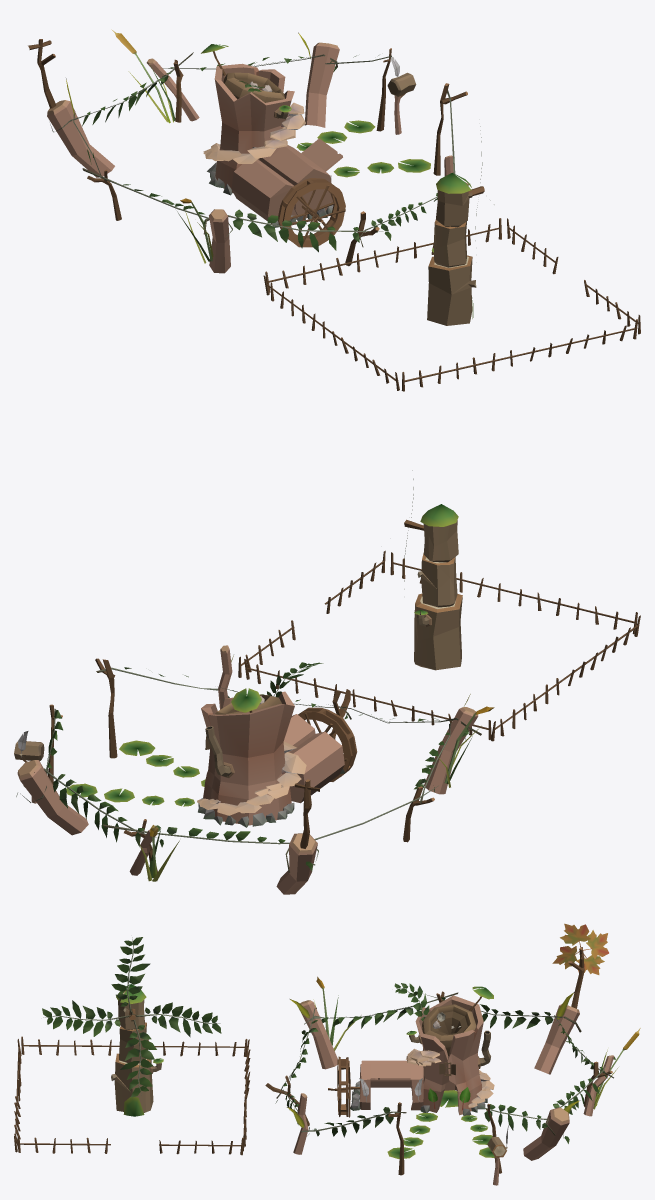
The picture shows the model from 3 angles, top to bottom: view 1: azimuth 30°, elevation 25°; view 2: azimuth 150°, elevation 25°; view 3: azimuth 270°, elevation 25°; orthographic projection. The views are drawn at different scales.
Parts seen in each view (by area): view 1: nestStage_14, watermillHouse.001, garageDoor.004; view 2: nestStage_14, watermillHouse.001; view 3: nestStage_14, windmill.001, nestStageWindmill_11.005, watermillHouse.001.
Part boxes in pixels (box(x1,y1,x2,y2)): nestStage_14: box(37, 29, 640, 391); watermillHouse.001: box(278, 178, 345, 247); garageDoor.004: box(301, 138, 342, 171); nestStage_14: box(14, 504, 640, 894); watermillHouse.001: box(298, 707, 357, 781); nestStage_14: box(14, 948, 640, 1185); windmill.001: box(42, 937, 221, 1097); nestStageWindmill_11.005: box(552, 923, 608, 974); watermillHouse.001: box(328, 1056, 359, 1117).
Size of the model in its own units: 6.39 by 4.12 by 11.53.
